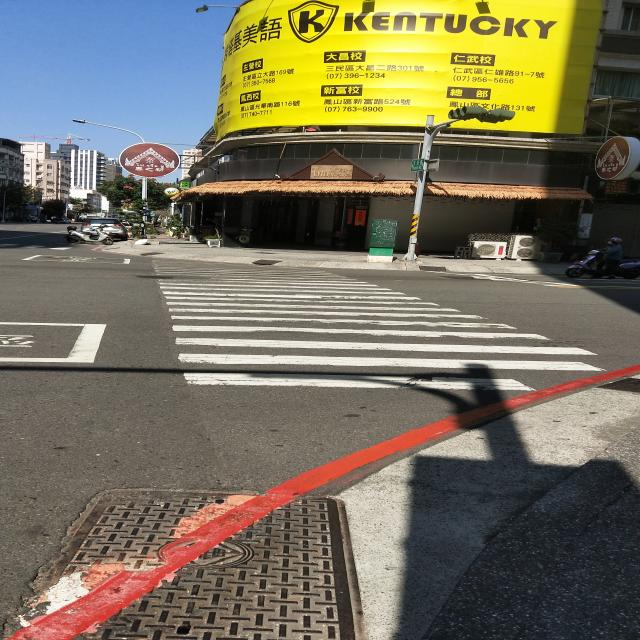zebra crossing: (144, 265, 618, 389)
